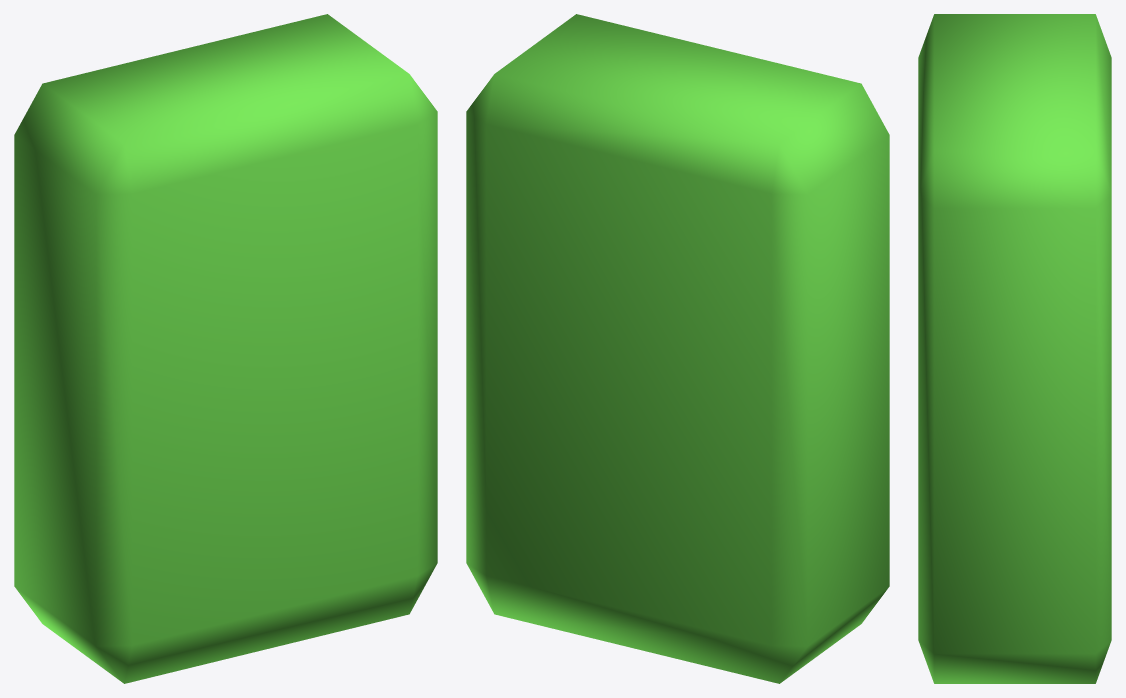
The model's file is Sale_500g.fbx.
3 renders of one model, left to right at view 1: azimuth 30°, elevation 25°; view 2: azimuth 150°, elevation 25°; view 3: azimuth 270°, elevation 25°, orthographic.
Visible parts, largest first — view 1: Sale_1/2; view 2: Sale_1/2; view 3: Sale_1/2.
Part boxes in pixels (x1,y1,x2,y2): Sale_1/2: [14, 14, 437, 683]; Sale_1/2: [466, 14, 889, 683]; Sale_1/2: [918, 14, 1111, 683].
Bounding box in the file's own units: 15.87 × 24.01 × 7.9.
